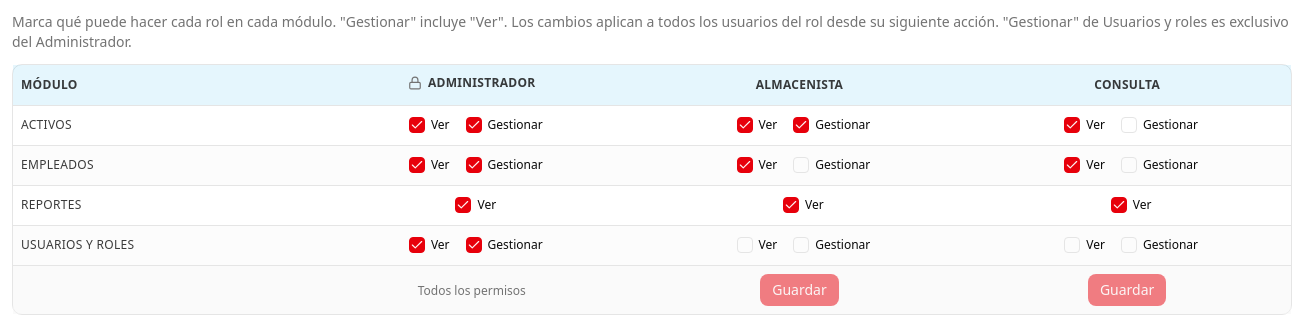
Test case: PermissionMatrix (RN-009, RN-010, US1) › quitar "Ver" quita "Gestionar" (US1 escenario 2)
The image size is (1304, 332).
Check: the column heading "Activos" is shown, box 13,105 -> 308,145
Click the checkbox named "Ver Activos · Almacenista" at (745, 125), box 737,117 -> 753,133
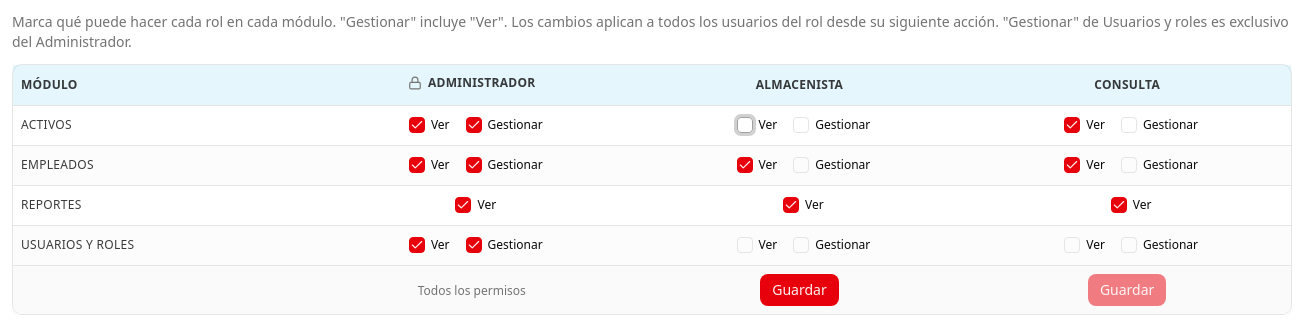
Check: the checkbox named "Ver Activos · Almacenista" is not checked, box 737,117 -> 753,133
Check: the checkbox named "Gestionar Activos · Almacenista" is not checked, box 793,117 -> 809,133
